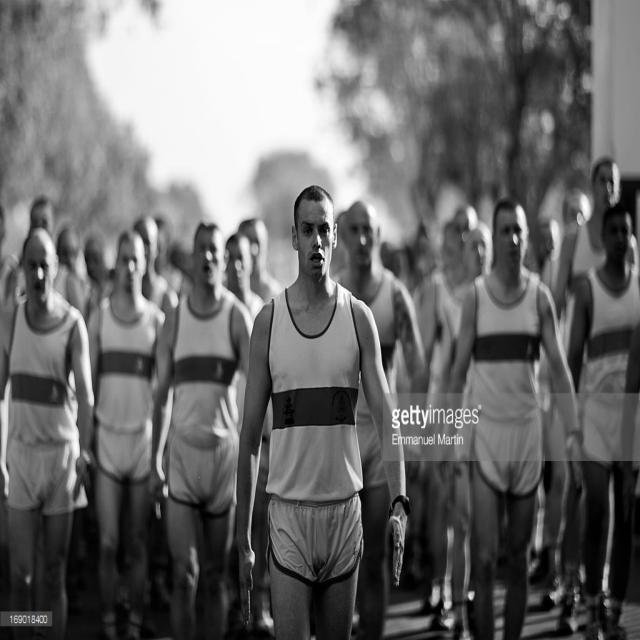body: (2, 192, 640, 612), (233, 183, 412, 640), (432, 196, 584, 640), (147, 219, 258, 640), (330, 197, 432, 640), (0, 224, 98, 639), (85, 227, 169, 640), (412, 199, 492, 622), (566, 202, 640, 637), (220, 230, 272, 634), (550, 155, 639, 354), (444, 218, 495, 340)
